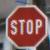Stop sign: (0, 0, 49, 49)
